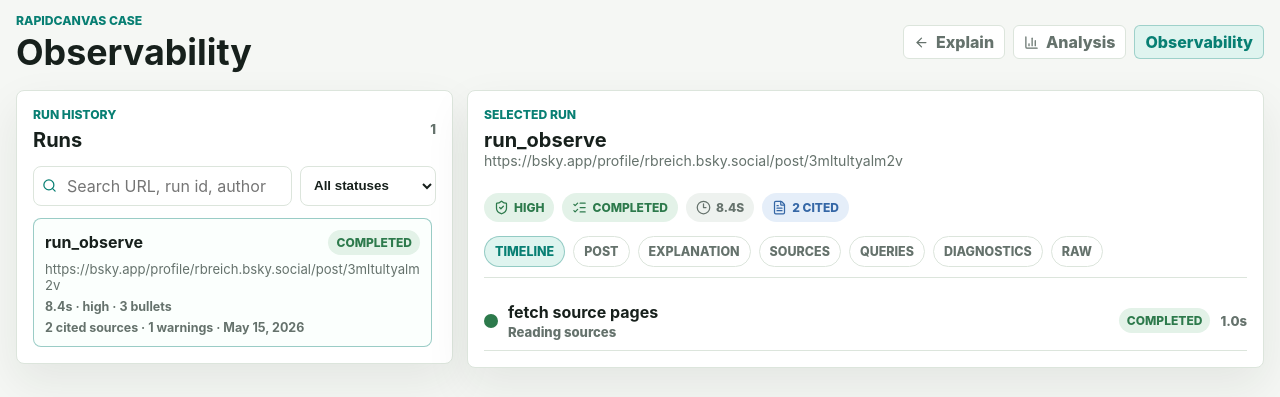
Test: ObservabilityPage › renders run history, timeline, and diagnostics tabs
This screenshot has width=1280, height=397.
Expected: the text "run_observe" is shown 2 times, [45, 232, 143, 252]; [484, 128, 607, 152]
Expected: the text "Reading sources" is shown, [508, 324, 616, 340]
Click the button "queries".
click(887, 251)  # box [849, 236, 925, 267]
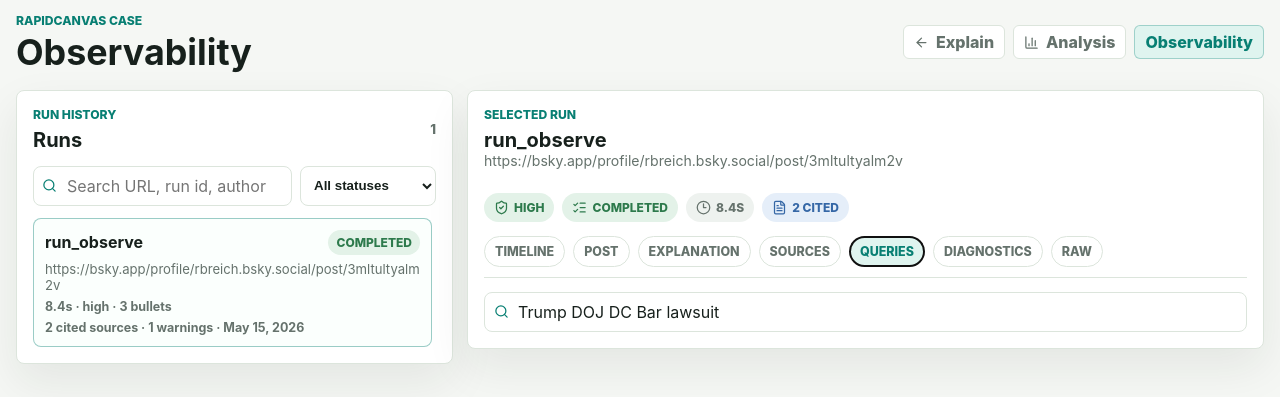
Expected: the text "Trump DOJ DC Bar lawsuit" is shown, [518, 302, 719, 322]
